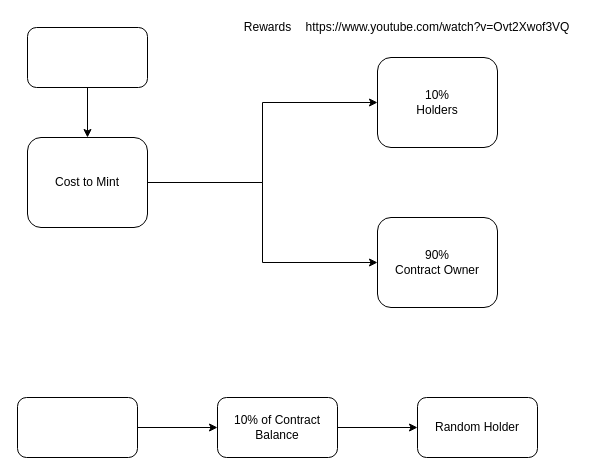
The diagram is 595 pixels wide and 475 high, and some of its shapes have lost their labels. The centre of each missing label's shape, as x and y in pixels:
Last Mint: pixel 77 427
Mint NFT: pixel 87 57
